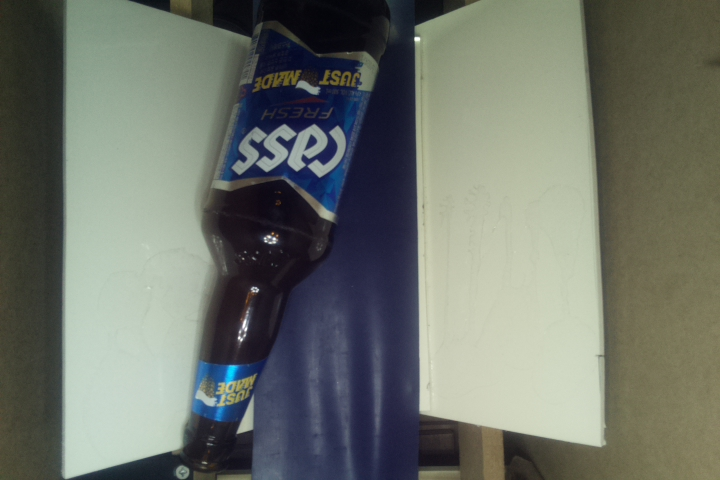makju: (173, 1, 398, 476)
